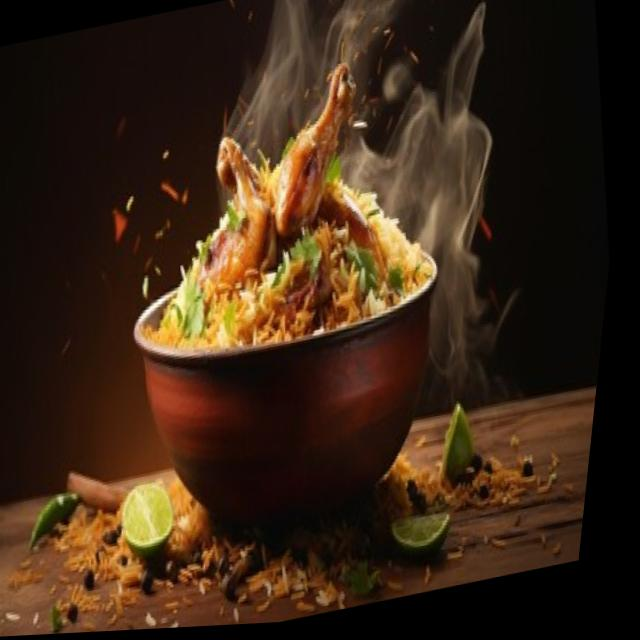BIRIYANI: (152, 141, 427, 345)
